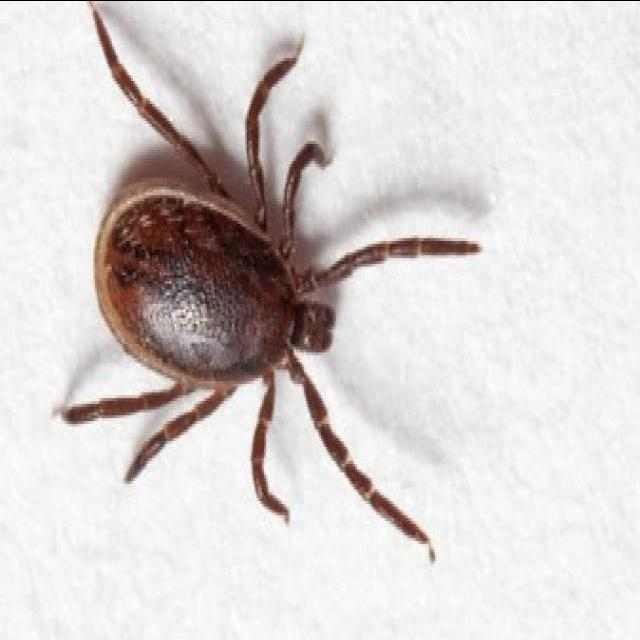Ixodes Ricinus-M: (57, 9, 480, 537)
